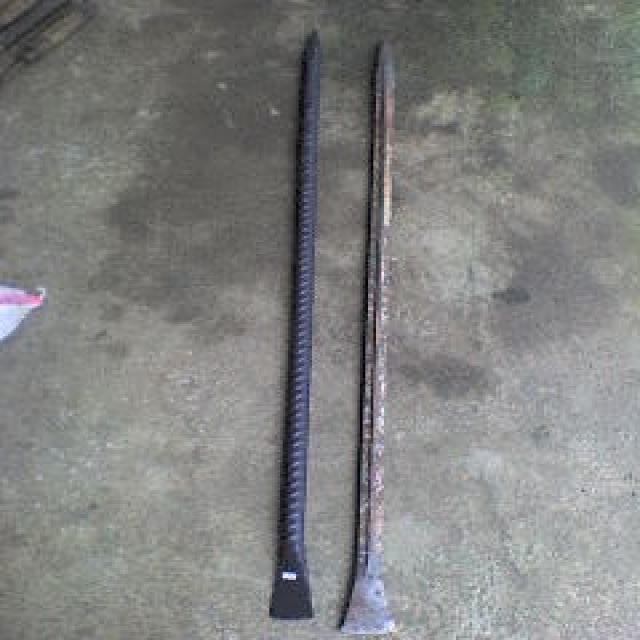Linggis: (275, 33, 325, 619)
